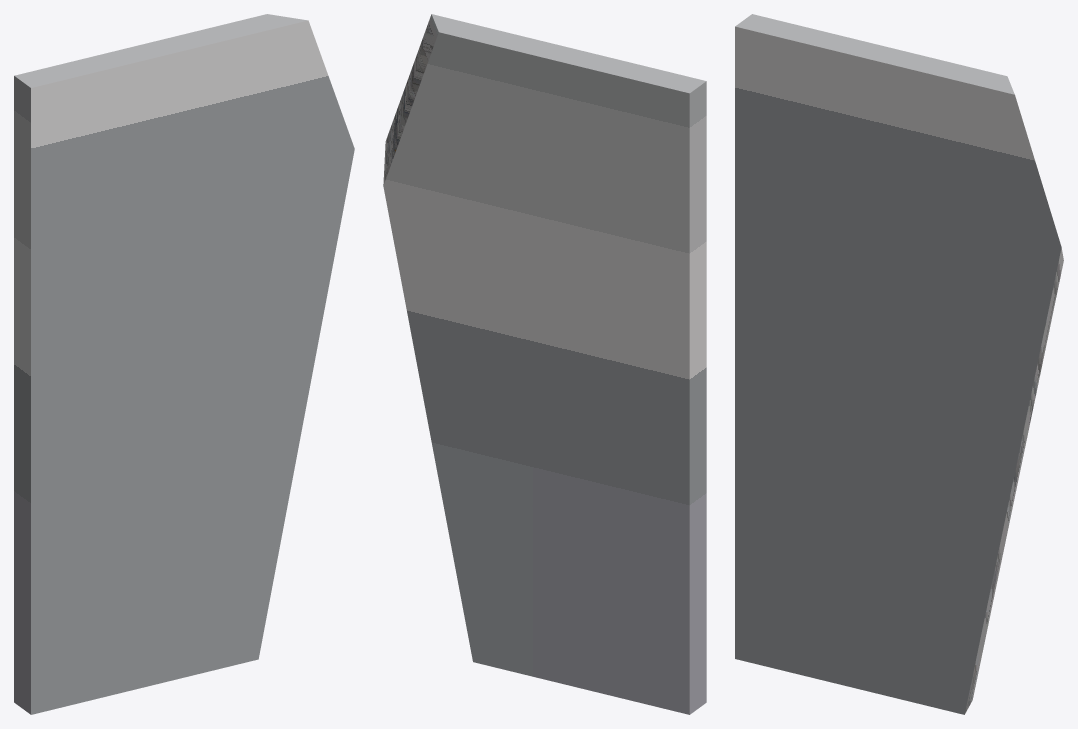
Rendered from 062_lowrise2Wall_cell_001.gltf.
The picture shows the model from 3 angles, left to right: view 1: azimuth 30°, elevation 25°; view 2: azimuth 150°, elevation 25°; view 3: azimuth 330°, elevation 25°; orthographic projection.
Visible parts, largest first — view 1: lowrise2Wall_cell_001; view 2: lowrise2Wall_cell_001; view 3: lowrise2Wall_cell_001.
Boxes of the visible parts, left/top/right/bottom form: lowrise2Wall_cell_001: left=14, top=14, right=354, bottom=714; lowrise2Wall_cell_001: left=383, top=14, right=706, bottom=714; lowrise2Wall_cell_001: left=735, top=14, right=1063, bottom=714.
Size of the model in its own units: 2.32 by 4.29 by 0.2105.
Materials: 1 (1 with a texture image).
